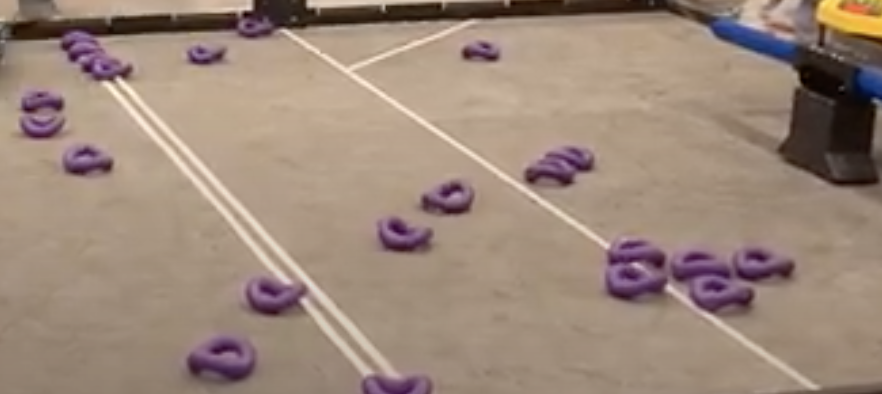ring: (186, 334, 256, 379), (690, 272, 754, 312), (245, 275, 306, 314), (607, 260, 668, 297), (377, 214, 434, 252), (733, 247, 795, 280), (607, 235, 665, 268), (422, 178, 475, 214), (672, 249, 732, 280), (62, 142, 112, 176), (361, 374, 433, 394), (525, 157, 576, 184), (20, 112, 65, 139), (546, 145, 596, 169), (20, 87, 65, 111), (91, 57, 133, 81), (188, 42, 227, 65), (462, 39, 499, 62), (238, 17, 274, 37), (62, 30, 98, 48), (79, 50, 113, 69), (70, 41, 104, 57)
